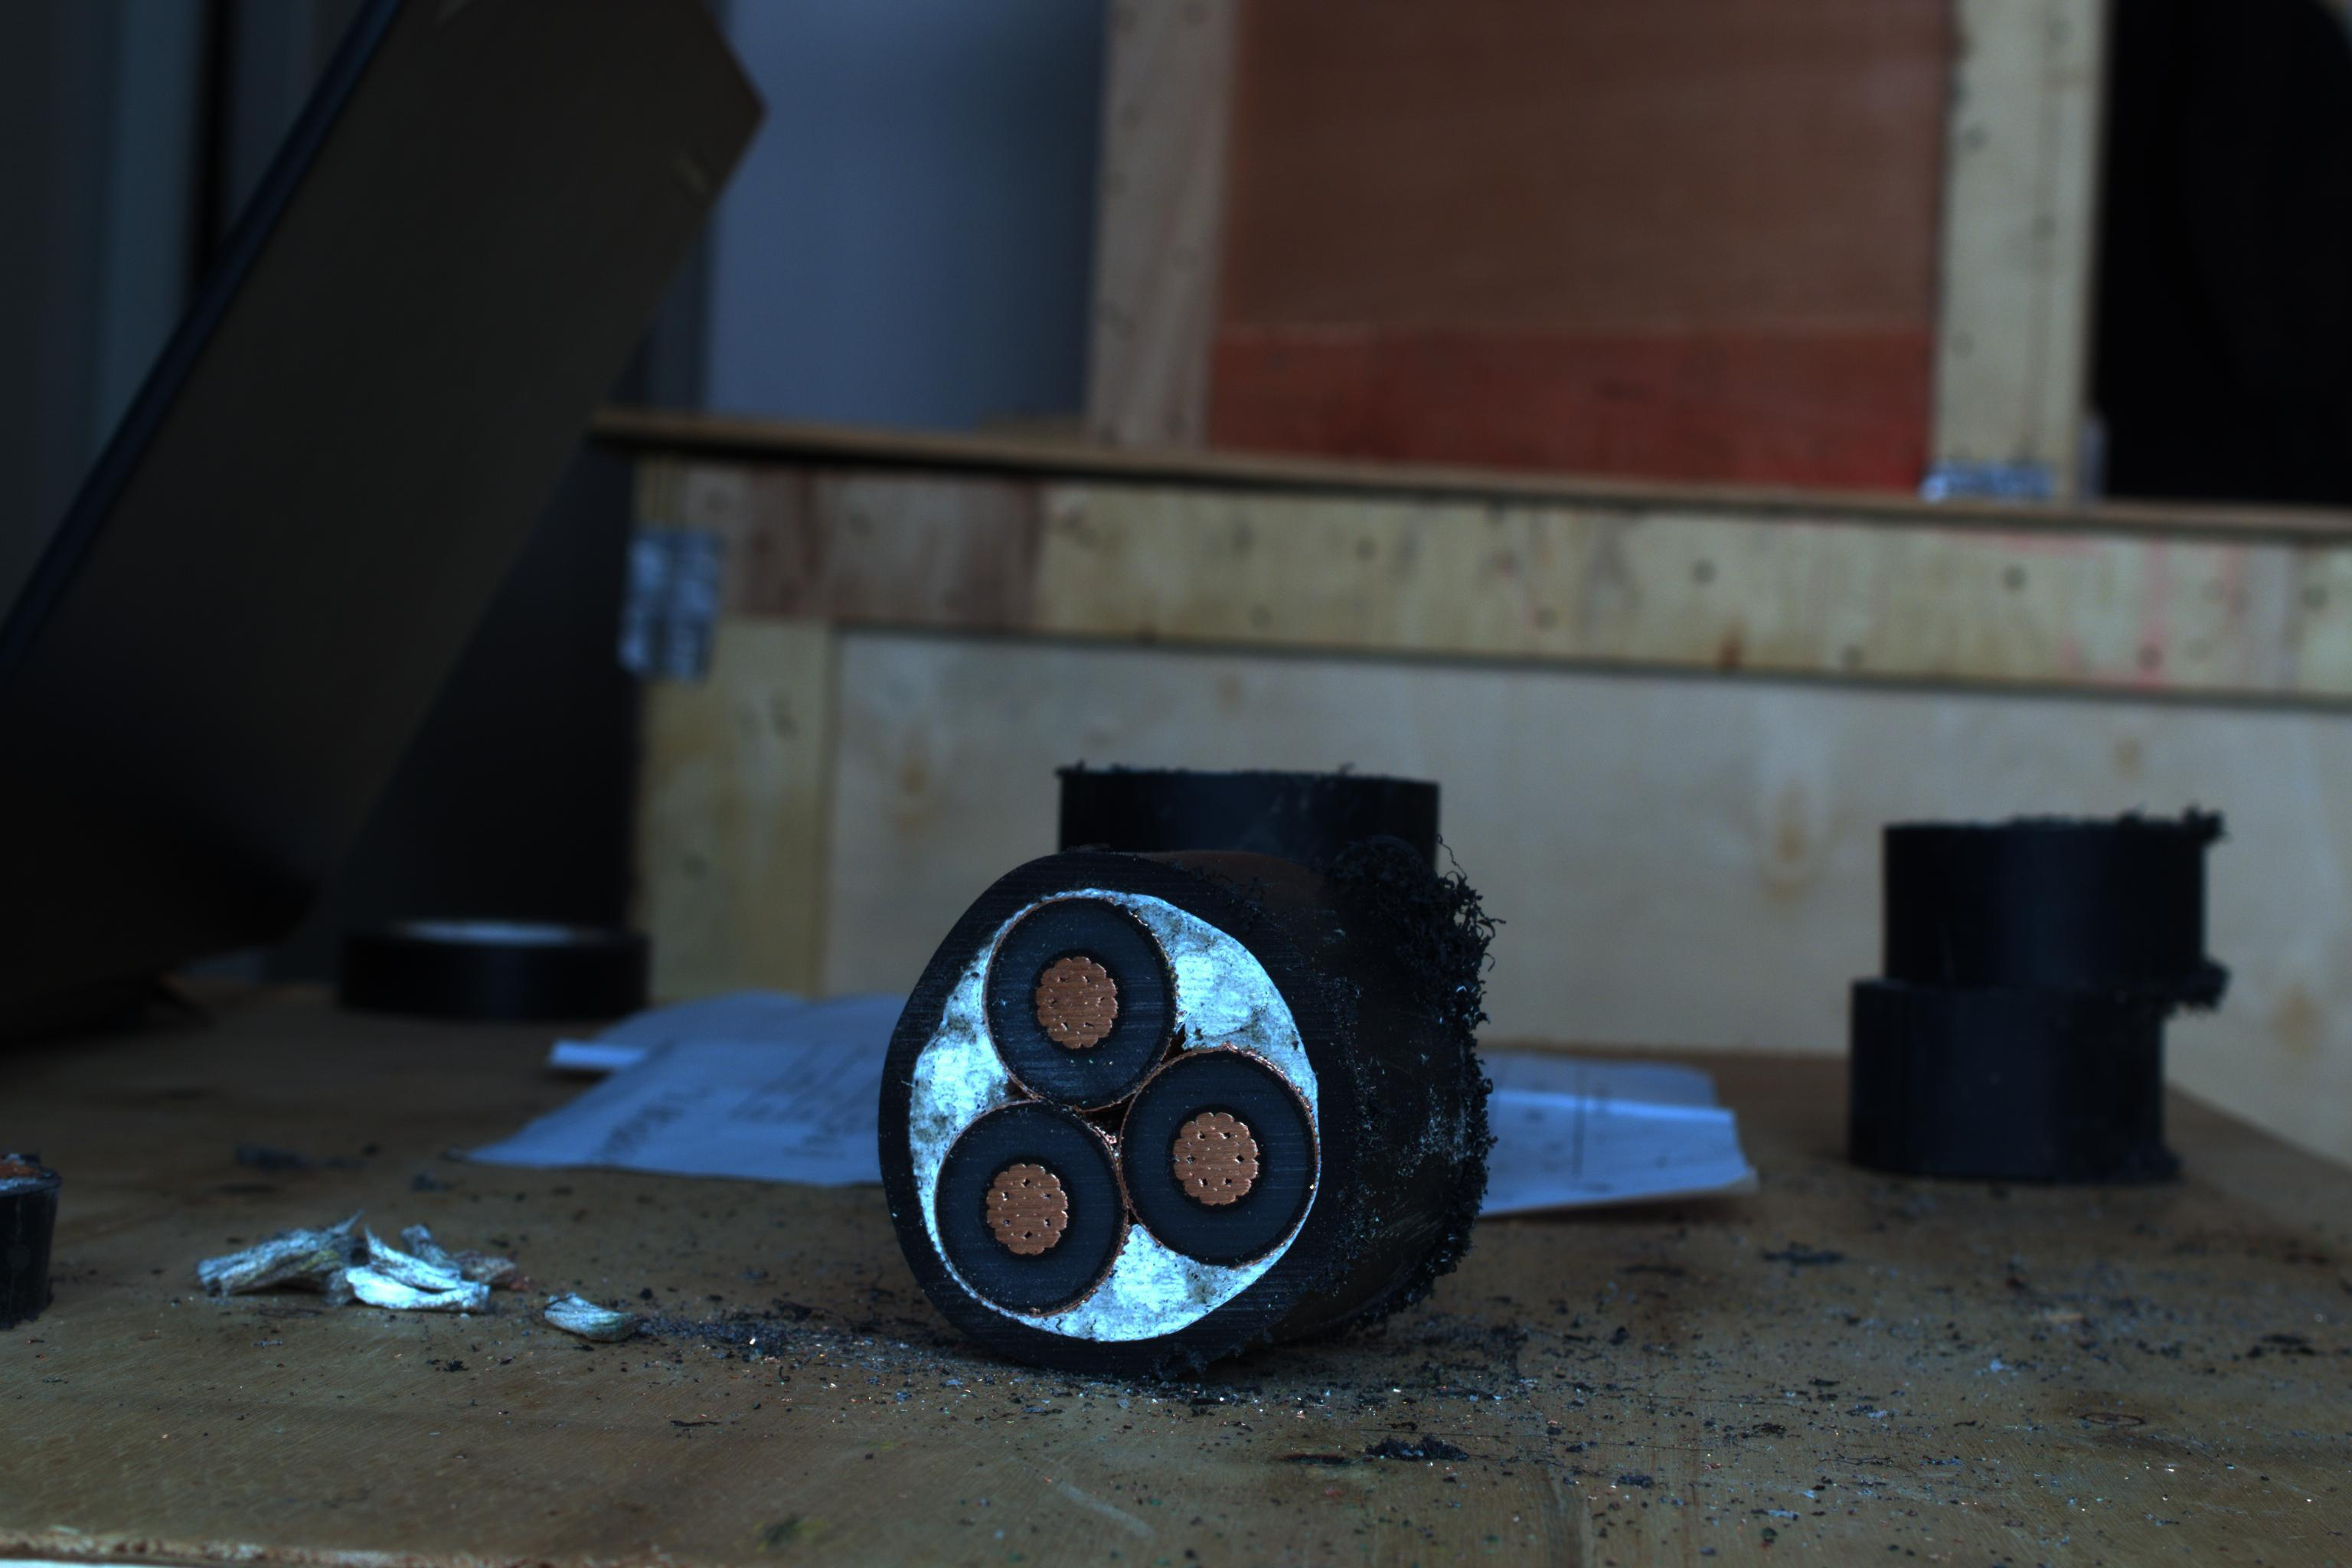YJV_8.7_10kV_3x70: (857, 850, 1374, 1384)
